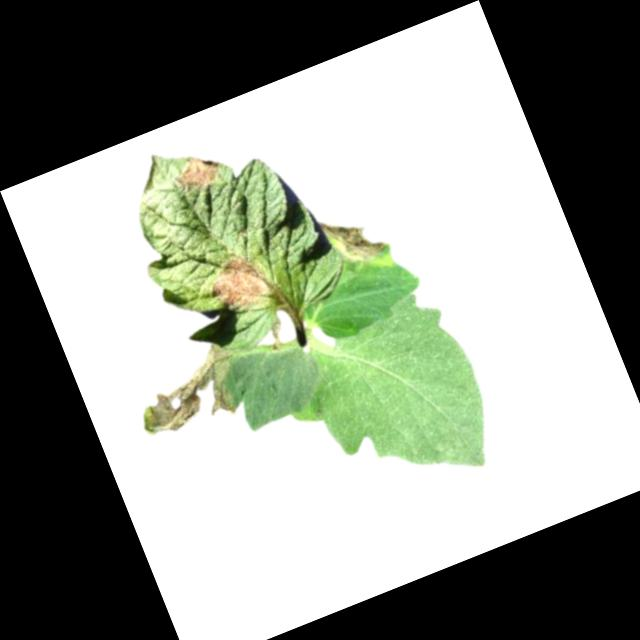Late_blight: (124, 337, 253, 447), (318, 197, 402, 285), (202, 245, 282, 322), (165, 143, 227, 199)
